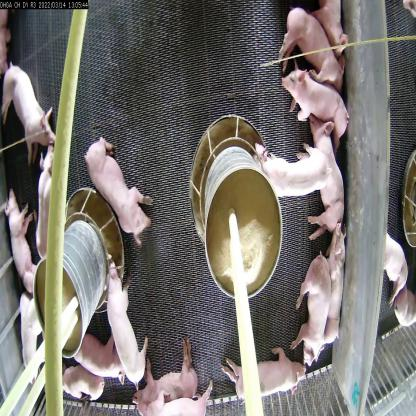Pig: (82, 127, 154, 248), (98, 255, 160, 383), (269, 0, 343, 92), (300, 120, 356, 240), (276, 66, 350, 153), (217, 345, 308, 408), (0, 61, 55, 165), (249, 137, 331, 202), (125, 345, 202, 409), (320, 212, 352, 345), (294, 250, 330, 367), (30, 137, 60, 271), (67, 319, 128, 383), (0, 183, 33, 301), (145, 379, 225, 416), (56, 349, 105, 404), (16, 298, 44, 384)
